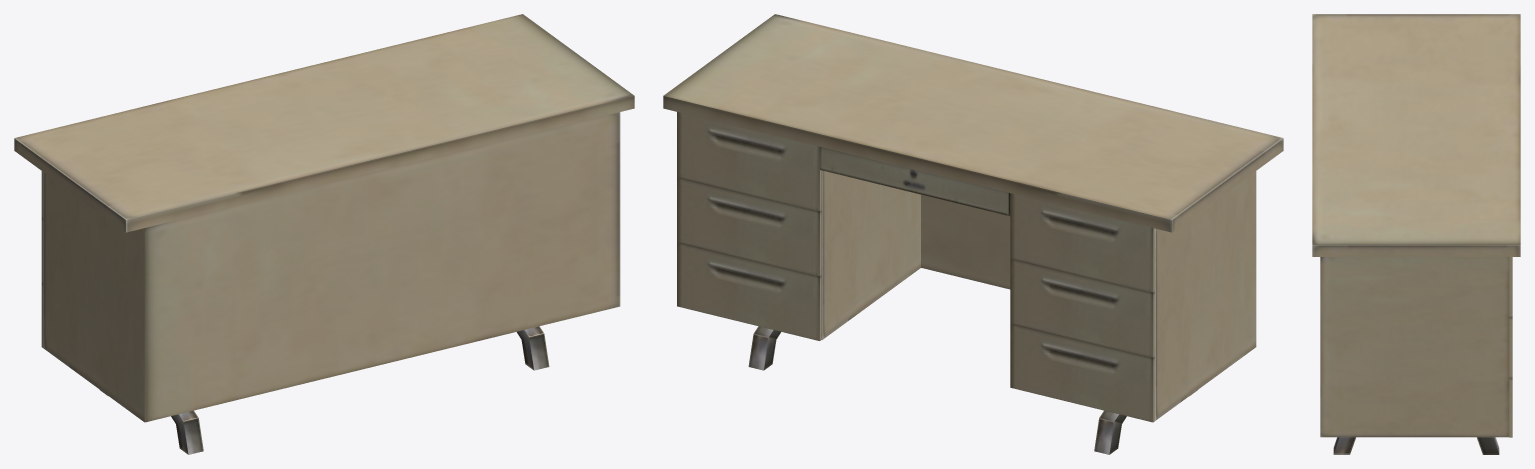
The model's file is Desk01.obj.
3 renders of one model, left to right at view 1: azimuth 30°, elevation 25°; view 2: azimuth 150°, elevation 25°; view 3: azimuth 270°, elevation 25°, orthographic. The views are drawn at different scales.
Visible parts, largest first — view 1: Desk01; view 2: Desk01, Desk01.Drawer.RhtBttm, Desk01.Drawer.LftBttm, Desk01.Drawer.RhtMid, Desk01.Drawer.LftMid, Desk01.Drawer.RhtTop, Desk01.Drawer.LftTop, Desk01.Drawer.Mid; view 3: Desk01, Desk01.Drawer.LftMid, Desk01.Drawer.LftBttm, Desk01.Drawer.LftTop.
Part boxes in pixels (x1=…): Desk01: x1=14, y1=14, x2=634, y2=454; Desk01: x1=663, y1=14, x2=1283, y2=454; Desk01.Drawer.RhtBttm: x1=1010, y1=322, x2=1154, y2=422; Desk01.Drawer.LftBttm: x1=677, y1=241, x2=821, y2=340; Desk01.Drawer.RhtMid: x1=1010, y1=257, x2=1154, y2=357; Desk01.Drawer.LftMid: x1=677, y1=176, x2=821, y2=275; Desk01.Drawer.RhtTop: x1=1010, y1=193, x2=1154, y2=292; Desk01.Drawer.LftTop: x1=677, y1=112, x2=821, y2=210; Desk01.Drawer.Mid: x1=820, y1=147, x2=1010, y2=216; Desk01: x1=1312, y1=14, x2=1520, y2=454; Desk01.Drawer.LftMid: x1=1509, y1=316, x2=1512, y2=377; Desk01.Drawer.LftBttm: x1=1509, y1=377, x2=1512, y2=437; Desk01.Drawer.LftTop: x1=1509, y1=257, x2=1512, y2=316.
Size of the model in its own units: 2.2 by 1.08 by 0.8372.
